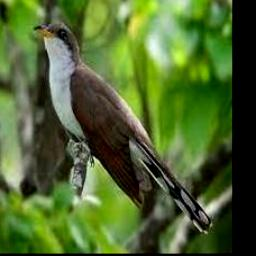Cuckoo: (34, 22, 213, 235)
